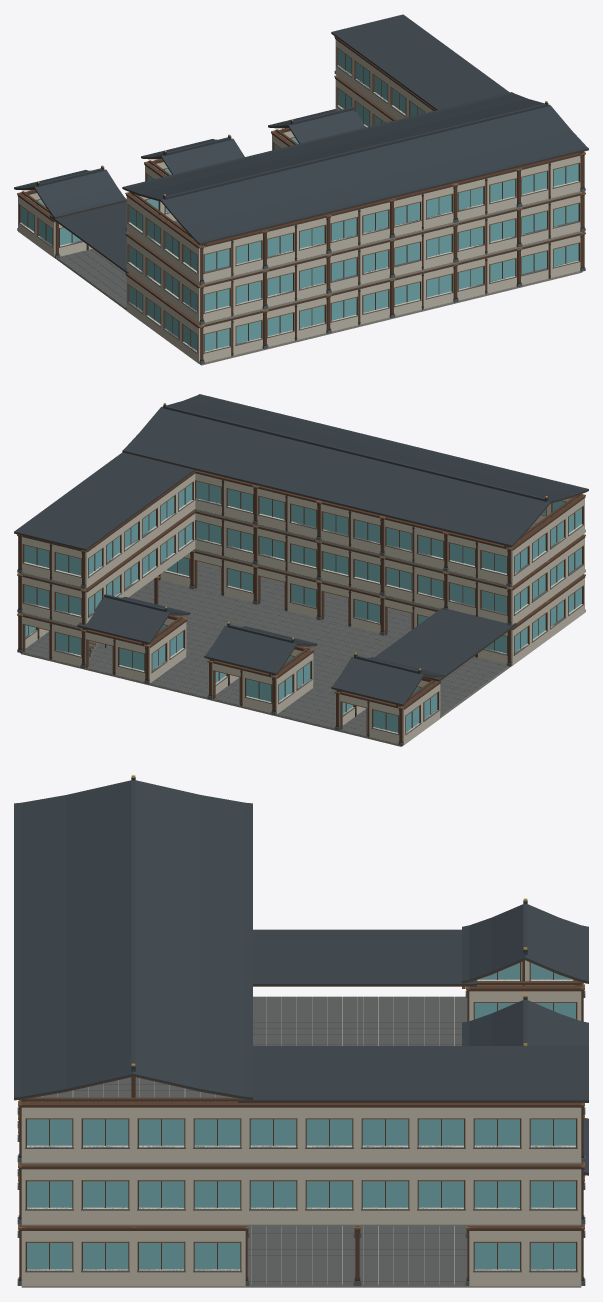
Rendered from visual-far.glb.
The picture shows the model from 3 angles, top to bottom: view 1: azimuth 30°, elevation 25°; view 2: azimuth 150°, elevation 25°; view 3: azimuth 270°, elevation 25°; orthographic projection. The views are drawn at different scales.
Parts seen in each view (by area): view 1: 参数墙 · 独立窗玻璃 (×29), 连续屋面 · gable (×4), 连续屋面 · flat (×2), 石铺面与混凝土楼板 (×2); view 2: 参数墙 · 独立窗玻璃 (×27), 连续屋面 · gable (×4), 石铺面与混凝土楼板 (×18), 参数墙 · 通行门洞 (×10), 连续屋面 · flat (×2); view 3: 参数墙 · 独立窗玻璃 (×15), 连续屋面 · gable (×3), 连续屋面 · flat (×2), 石铺面与混凝土楼板 (×8).
Part boxes in pixels (box(x1,y1,x2,y2)): 参数墙 · 独立窗玻璃 (×29): box(17, 37, 581, 363); 连续屋面 · gable (×4): box(14, 92, 588, 245); 连续屋面 · flat (×2): box(50, 14, 509, 273); 石铺面与混凝土楼板 (×2): box(57, 249, 126, 309); 参数墙 · 独立窗玻璃 (×27): box(22, 470, 585, 744); 连续屋面 · gable (×4): box(77, 394, 588, 706); 石铺面与混凝土楼板 (×18): box(20, 567, 509, 746); 参数墙 · 通行门洞 (×10): box(20, 550, 507, 743); 连续屋面 · flat (×2): box(14, 452, 516, 681); 参数墙 · 独立窗玻璃 (×15): box(21, 960, 581, 1286); 连续屋面 · gable (×3): box(14, 775, 588, 1102); 连续屋面 · flat (×2): box(238, 929, 588, 1102); 石铺面与混凝土楼板 (×8): box(29, 996, 469, 1287).
Bounding box in the file's own units: 36.8 × 13.08 × 30.4.
14 materials, 14 textured.
